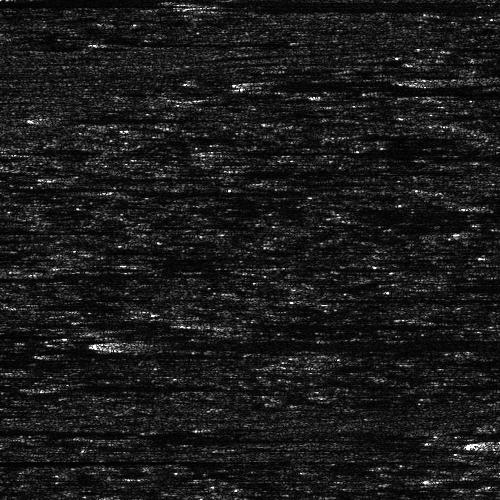rock: (0, 333, 266, 354), (23, 381, 86, 390), (478, 429, 500, 454), (0, 181, 48, 192), (175, 321, 248, 326), (109, 180, 120, 201), (304, 295, 315, 306), (461, 203, 472, 208)
shadow: (115, 333, 500, 354), (115, 180, 294, 201), (55, 381, 248, 390), (12, 181, 128, 192), (0, 457, 178, 464), (0, 456, 216, 461), (212, 321, 414, 326), (310, 295, 379, 306), (71, 175, 189, 178), (467, 203, 500, 208)
